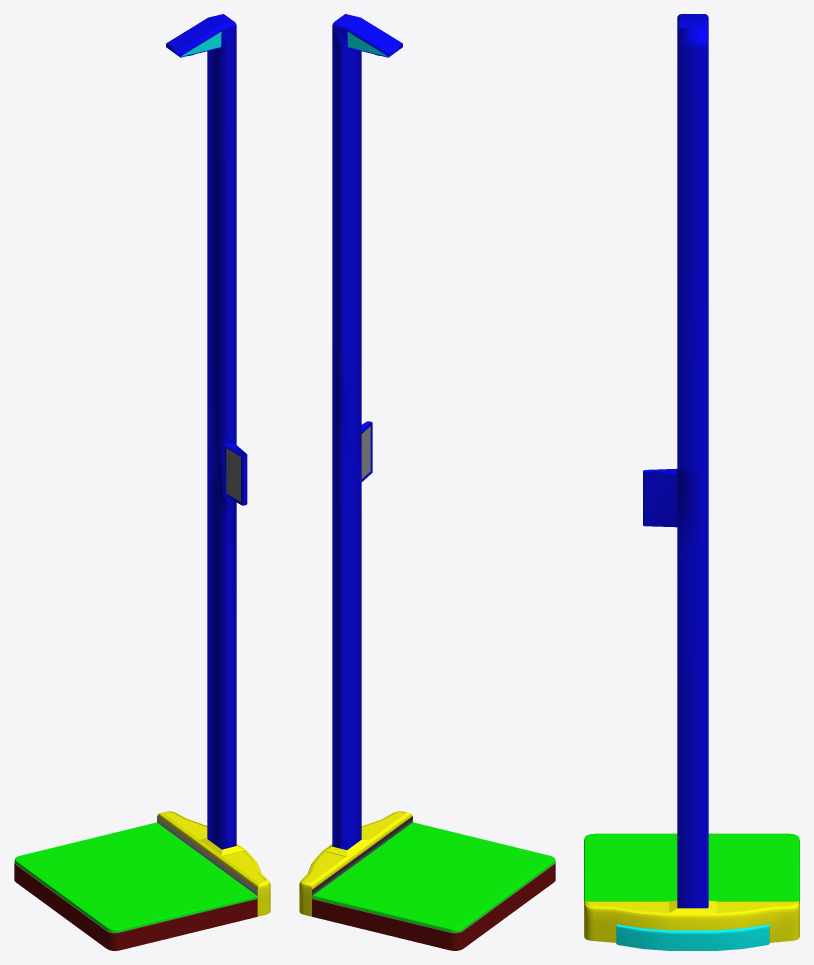
File: measuring.fbx
3 views of the same model, side by side, from view 1: azimuth 30°, elevation 25°; view 2: azimuth 150°, elevation 25°; view 3: azimuth 270°, elevation 25° (orthographic). The views are drawn at different scales.
Visible parts, largest first — view 1: pCube1 (×6); view 2: pCube1 (×5); view 3: pCube1 (×4).
Part boxes in pixels (left/top/right/bottom): pCube1 (×6): left=14, top=14, right=270, bottom=950; pCube1 (×5): left=299, top=14, right=555, bottom=950; pCube1 (×4): left=584, top=14, right=799, bottom=950.
Bounding box in the file's own units: 48.47 × 219 × 46.6.
